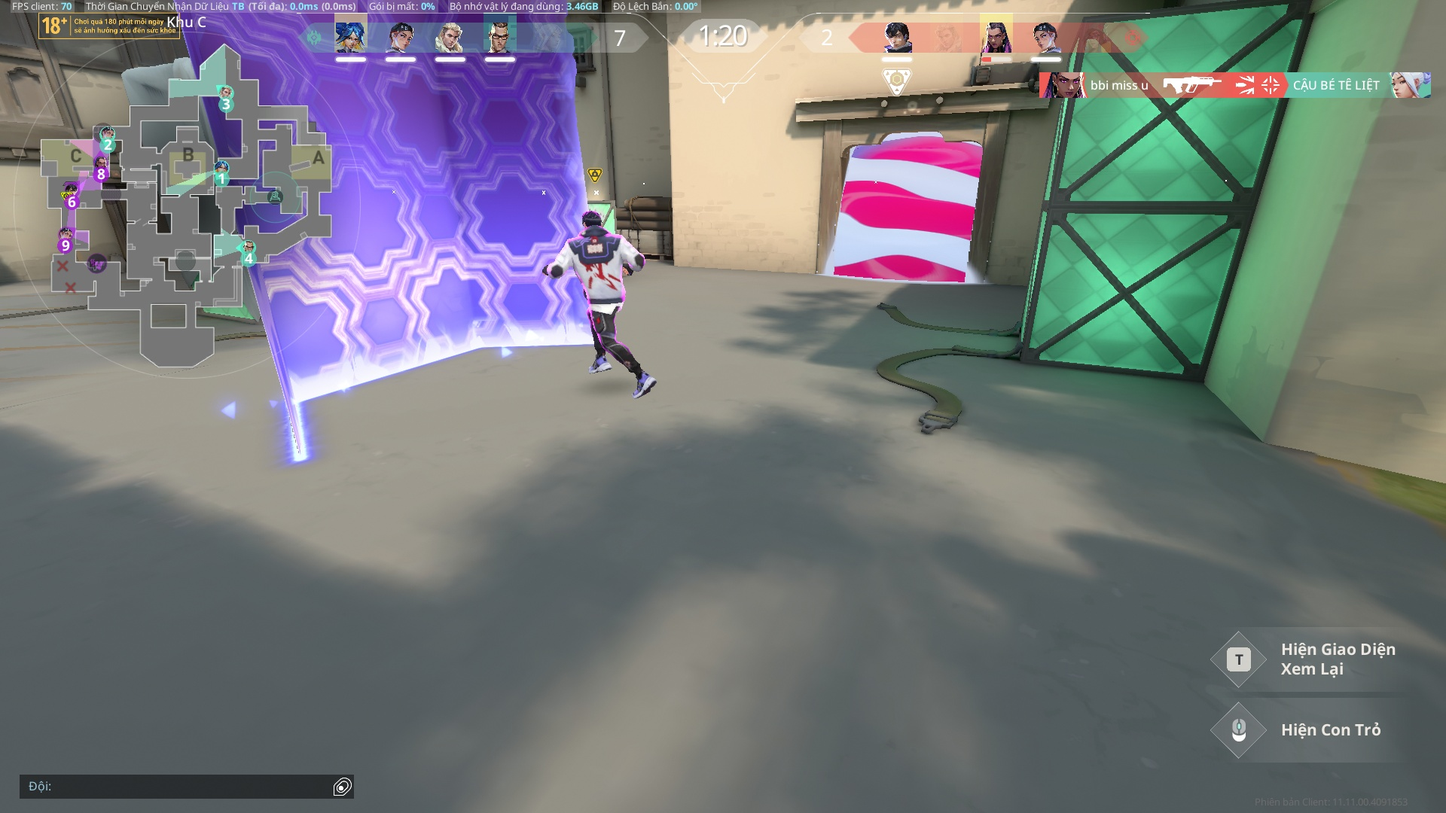body: (564, 225, 633, 285)
head: (579, 207, 606, 233)
